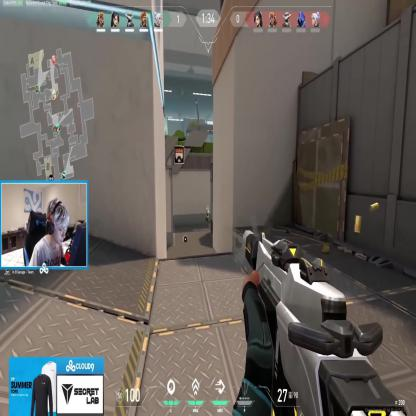enemy: (205, 207, 209, 223)
enemy_head: (206, 208, 208, 211)
